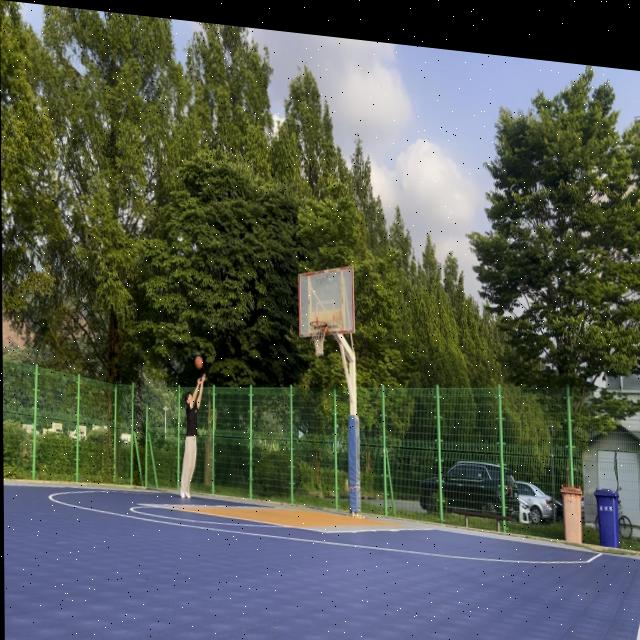basketball: (194, 355, 203, 370)
hoop: (310, 319, 328, 358)
